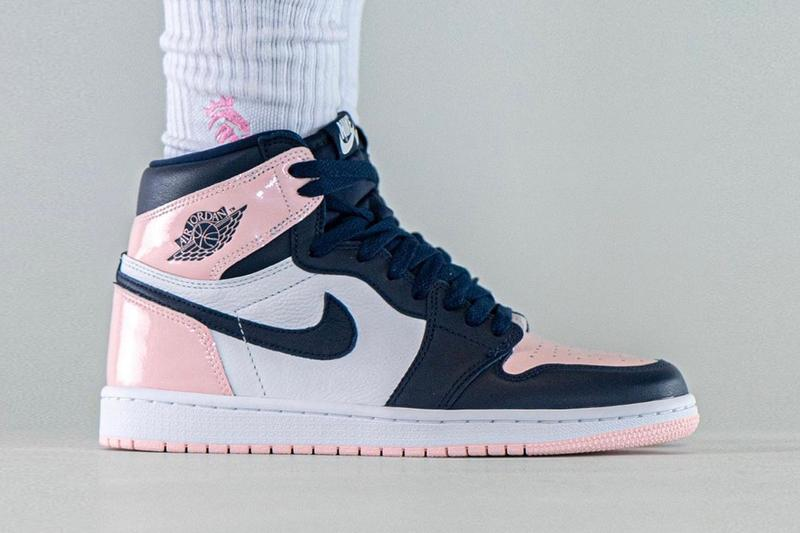Jordan 1: (92, 107, 705, 466)
